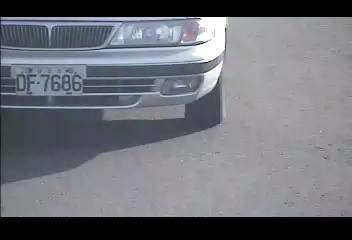plate: (15, 63, 85, 97)
